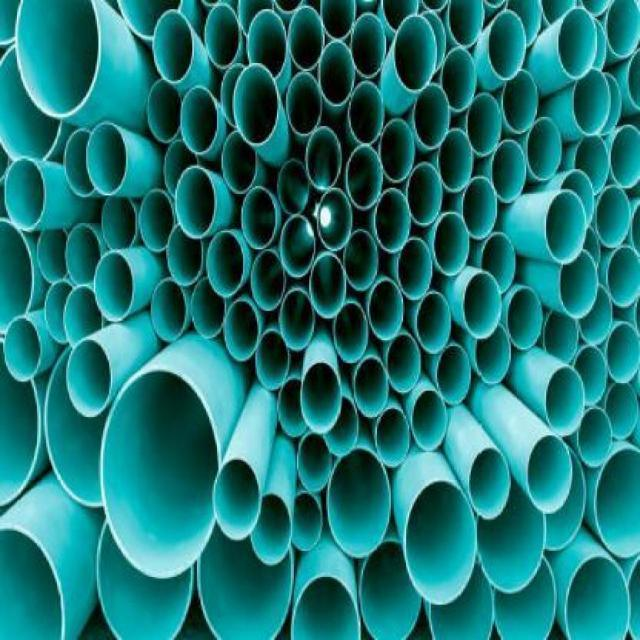pipe: (99, 365, 221, 579), (96, 519, 193, 639), (197, 522, 296, 639), (15, 1, 100, 118), (44, 343, 104, 508), (404, 478, 478, 603), (475, 475, 546, 594), (0, 523, 66, 639), (327, 447, 392, 558), (0, 44, 62, 160), (0, 345, 43, 511), (357, 537, 422, 639), (565, 554, 632, 639), (428, 558, 495, 639), (492, 556, 557, 638), (594, 445, 639, 559), (290, 572, 361, 639), (213, 457, 261, 539), (0, 219, 34, 334), (233, 64, 279, 146), (66, 338, 113, 416), (527, 435, 572, 513), (394, 15, 437, 94), (4, 156, 46, 230), (251, 492, 293, 566), (85, 122, 127, 196), (175, 166, 217, 239), (545, 191, 587, 264), (300, 361, 342, 434), (152, 10, 194, 83), (468, 447, 510, 520), (94, 250, 134, 323), (557, 7, 597, 80), (559, 249, 599, 319), (545, 365, 585, 435), (247, 9, 287, 79), (572, 67, 611, 137), (180, 85, 219, 155), (488, 10, 526, 81), (463, 271, 501, 339), (64, 285, 104, 348), (207, 230, 244, 298), (4, 315, 41, 382), (310, 252, 347, 318), (318, 40, 354, 107), (151, 278, 188, 343), (413, 83, 450, 148), (526, 116, 563, 181), (346, 145, 383, 210), (406, 162, 442, 227), (461, 176, 497, 241), (288, 6, 324, 71), (351, 13, 387, 78), (441, 47, 477, 112), (502, 69, 538, 134), (286, 72, 322, 137), (433, 213, 470, 276), (506, 287, 543, 350), (65, 224, 102, 286), (411, 390, 448, 452), (205, 4, 240, 69), (147, 78, 182, 143), (380, 118, 415, 183), (306, 126, 341, 191), (595, 184, 631, 247), (577, 282, 613, 345), (348, 82, 384, 145), (466, 93, 502, 156), (221, 131, 257, 194), (491, 139, 527, 202), (279, 216, 315, 278), (343, 229, 379, 291), (481, 232, 517, 294), (279, 289, 315, 351), (416, 292, 452, 354), (333, 302, 369, 364), (577, 405, 613, 467), (241, 187, 276, 250), (317, 189, 352, 252), (375, 189, 410, 252), (140, 189, 175, 252), (397, 237, 432, 300), (437, 129, 472, 192), (574, 134, 610, 195), (168, 224, 203, 286), (368, 279, 403, 341), (475, 323, 510, 385), (224, 301, 260, 361), (607, 244, 640, 309), (605, 323, 639, 386), (251, 250, 286, 311), (192, 278, 226, 340), (573, 345, 607, 407), (325, 395, 359, 457), (65, 129, 96, 197), (436, 345, 471, 405), (375, 407, 410, 467), (254, 330, 290, 388), (297, 433, 333, 491), (605, 0, 639, 60), (386, 333, 420, 393), (101, 195, 137, 251), (164, 140, 199, 197), (354, 358, 388, 416), (609, 125, 640, 188), (543, 311, 579, 364), (277, 159, 310, 216), (605, 383, 639, 438), (278, 377, 309, 437), (291, 492, 322, 551), (45, 281, 74, 343), (448, 1, 483, 49), (37, 229, 68, 283), (507, 0, 541, 46), (321, 1, 356, 41), (382, 0, 420, 31)
